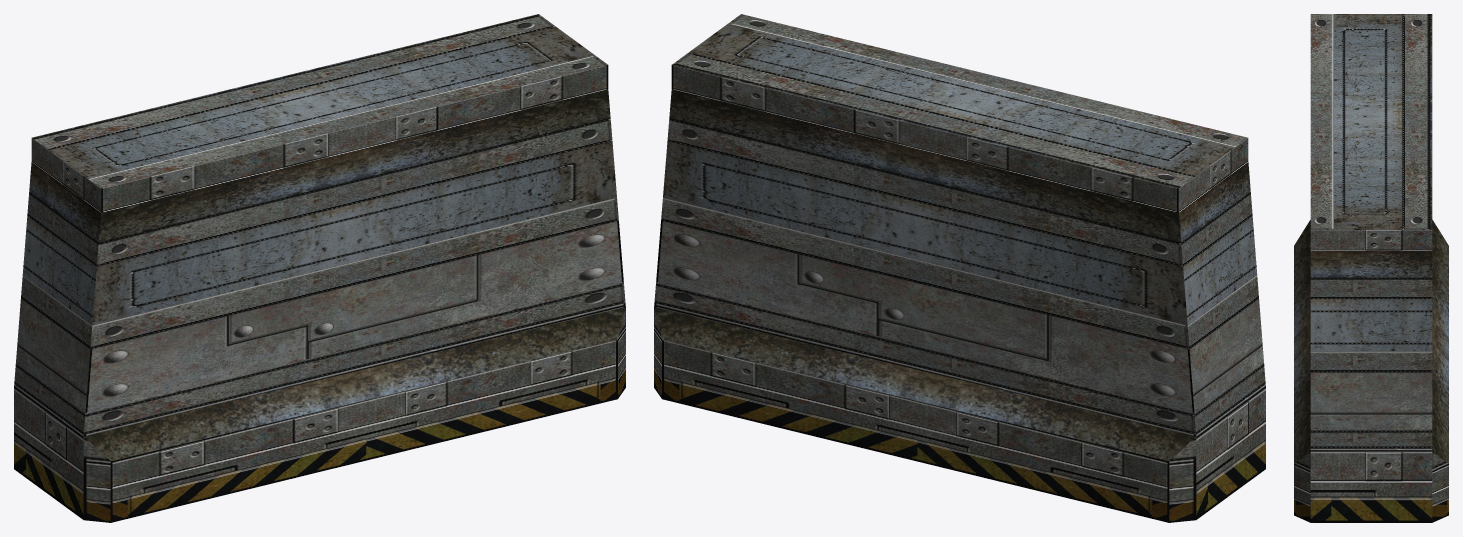
File: SF_block.FBX
3 views of the same model, side by side, from view 1: azimuth 30°, elevation 25°; view 2: azimuth 150°, elevation 25°; view 3: azimuth 270°, elevation 25° (orthographic). The views are drawn at different scales.
Visible parts, largest first — view 1: Box01; view 2: Box01; view 3: Box01.
Part boxes in pixels (x1,y1,x2,y2): Box01: (14,14,625,522); Box01: (654,14,1265,522); Box01: (1294,14,1448,522).
Bounding box in the file's own units: 5992 × 3457 × 1698.
